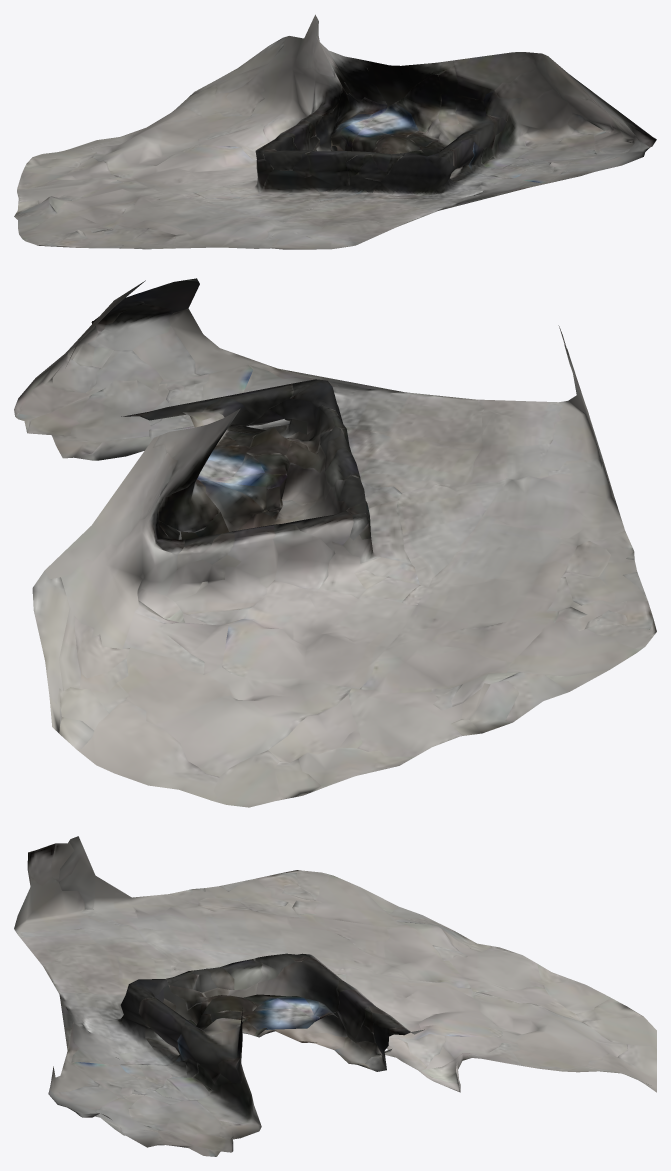
The model's file is hall.glb.
The picture shows the model from 3 angles, top to bottom: view 1: azimuth 30°, elevation 25°; view 2: azimuth 150°, elevation 25°; view 3: azimuth 270°, elevation 25°; orthographic projection. The views are drawn at different scales.
Bounding box in the file's own units: 1.85 × 0.5699 × 1.66.
Materials: 1 (1 with a texture image).
